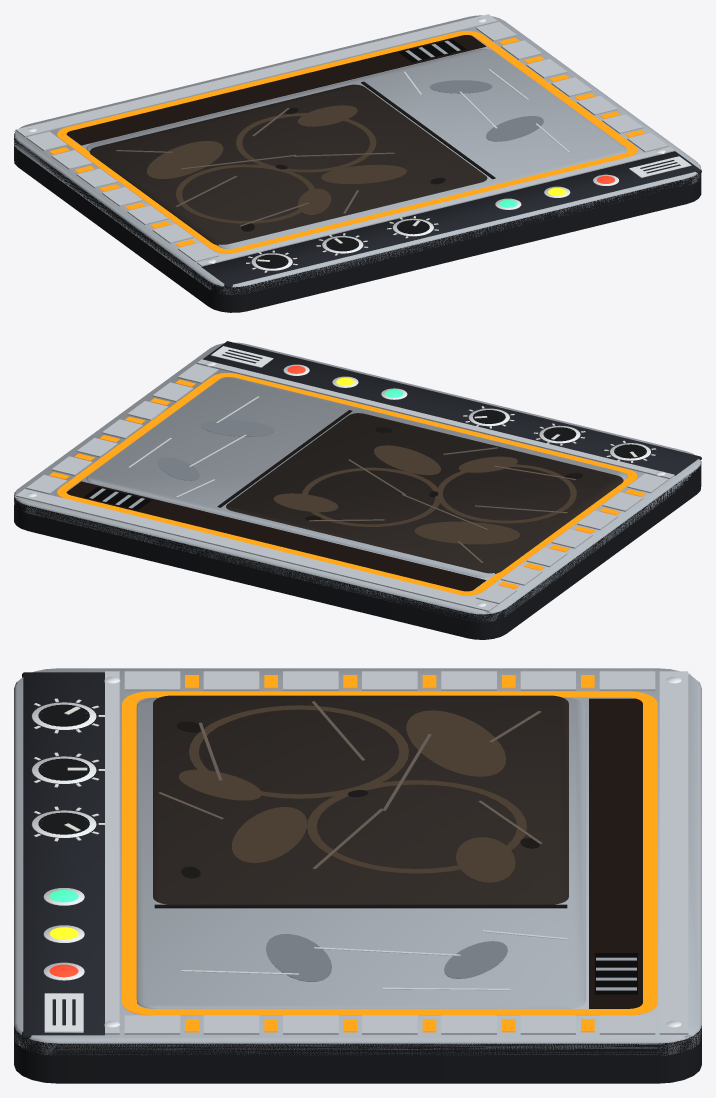
File: griddle.glb
The picture shows the model from 3 angles, top to bottom: view 1: azimuth 30°, elevation 25°; view 2: azimuth 150°, elevation 25°; view 3: azimuth 270°, elevation 25°; orthographic projection. The views are drawn at different scales.
Visible parts, largest first — view 1: Griddle; view 2: Griddle; view 3: Griddle.
Boxes of the visible parts, left/top/right/bottom form: Griddle: left=14, top=14, right=701, bottom=312; Griddle: left=14, top=341, right=701, bottom=639; Griddle: left=14, top=668, right=701, bottom=1083.
Size of the model in its own units: 9 by 0.512 by 7.
